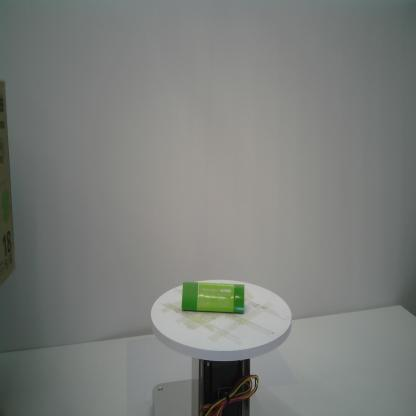Stationery: (181, 278, 247, 316)
